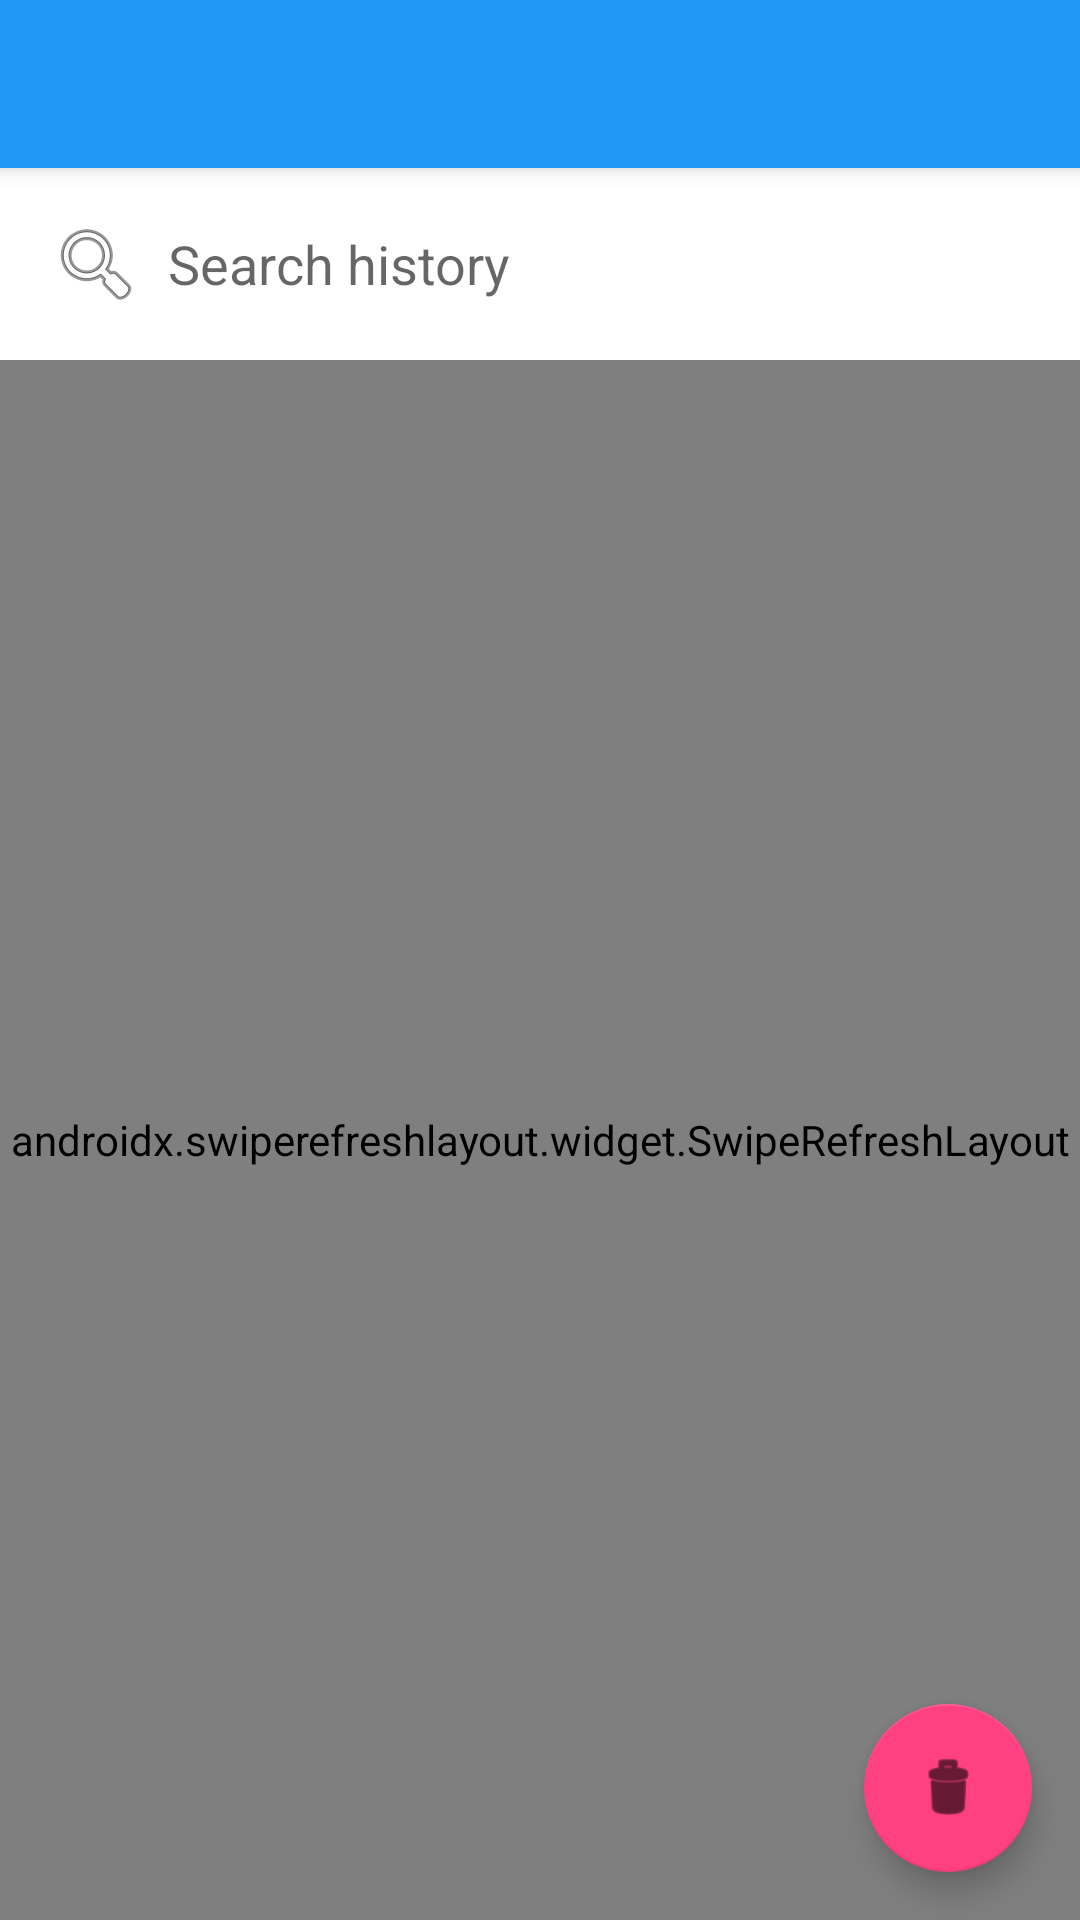

Where to tap for icons on this 1080 x 1920 app screen, as [x,y]:
Clear history: [948,1788]
